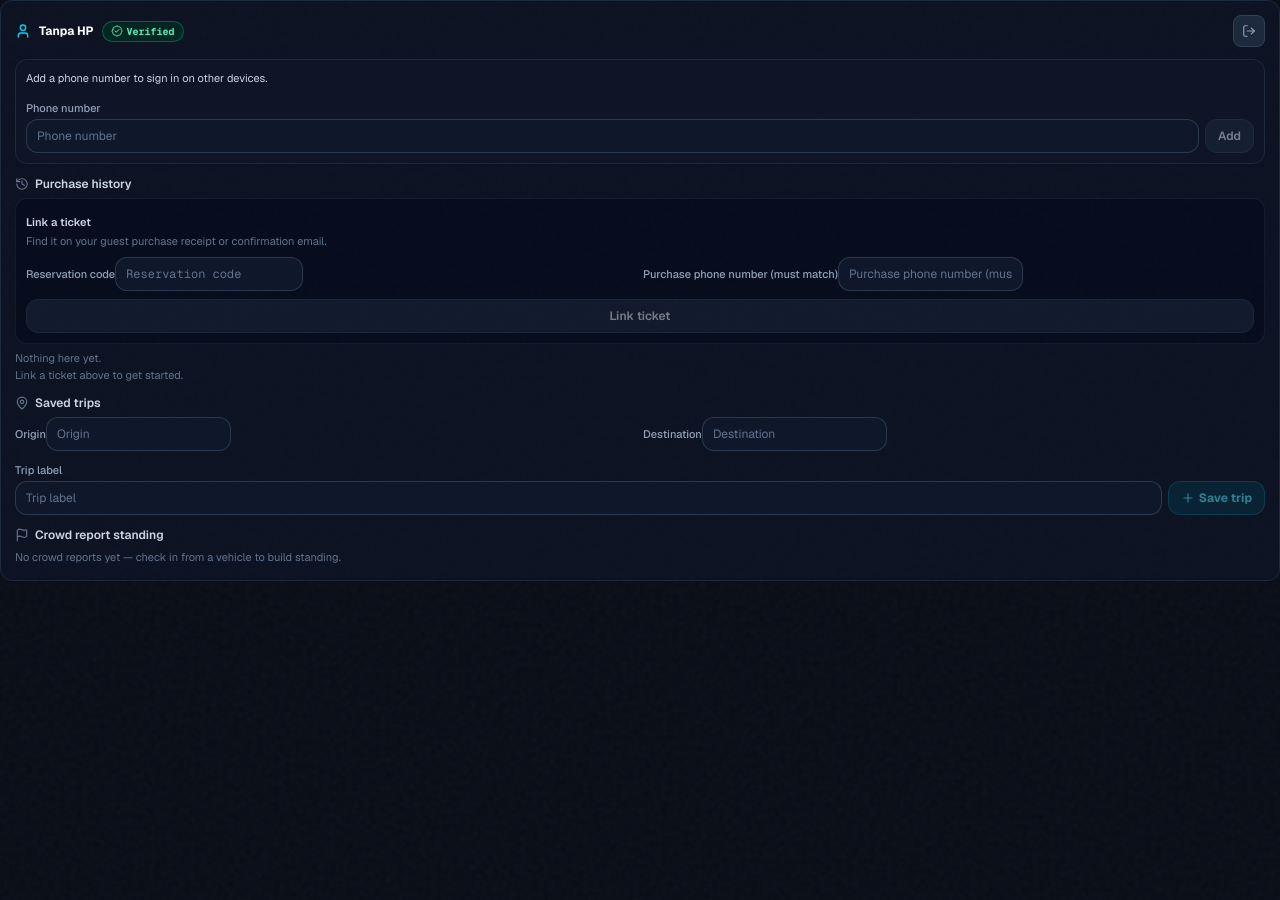
Test: phoneless accounts › offers phone attach on a phoneless account and persists it
Expected: the text "Purchase history" is shown, top-left (15, 176), bottom-right (132, 192)
Type "+6281999000001" into the field labelled "Phone number" at (612, 136), box top-left (26, 118), bottom-right (1199, 152)
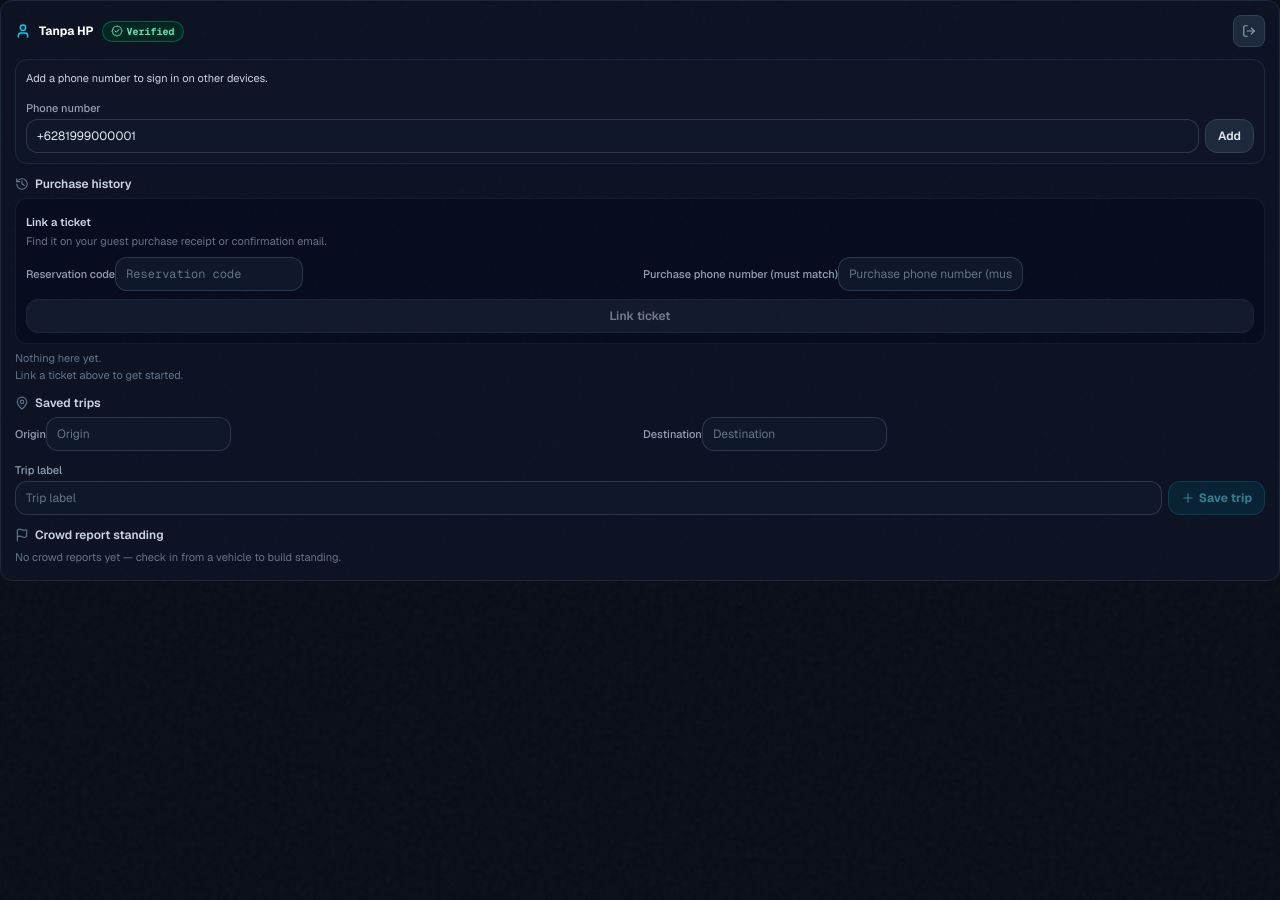
Click the button "Add" at (1230, 136), box top-left (1205, 118), bottom-right (1254, 152)
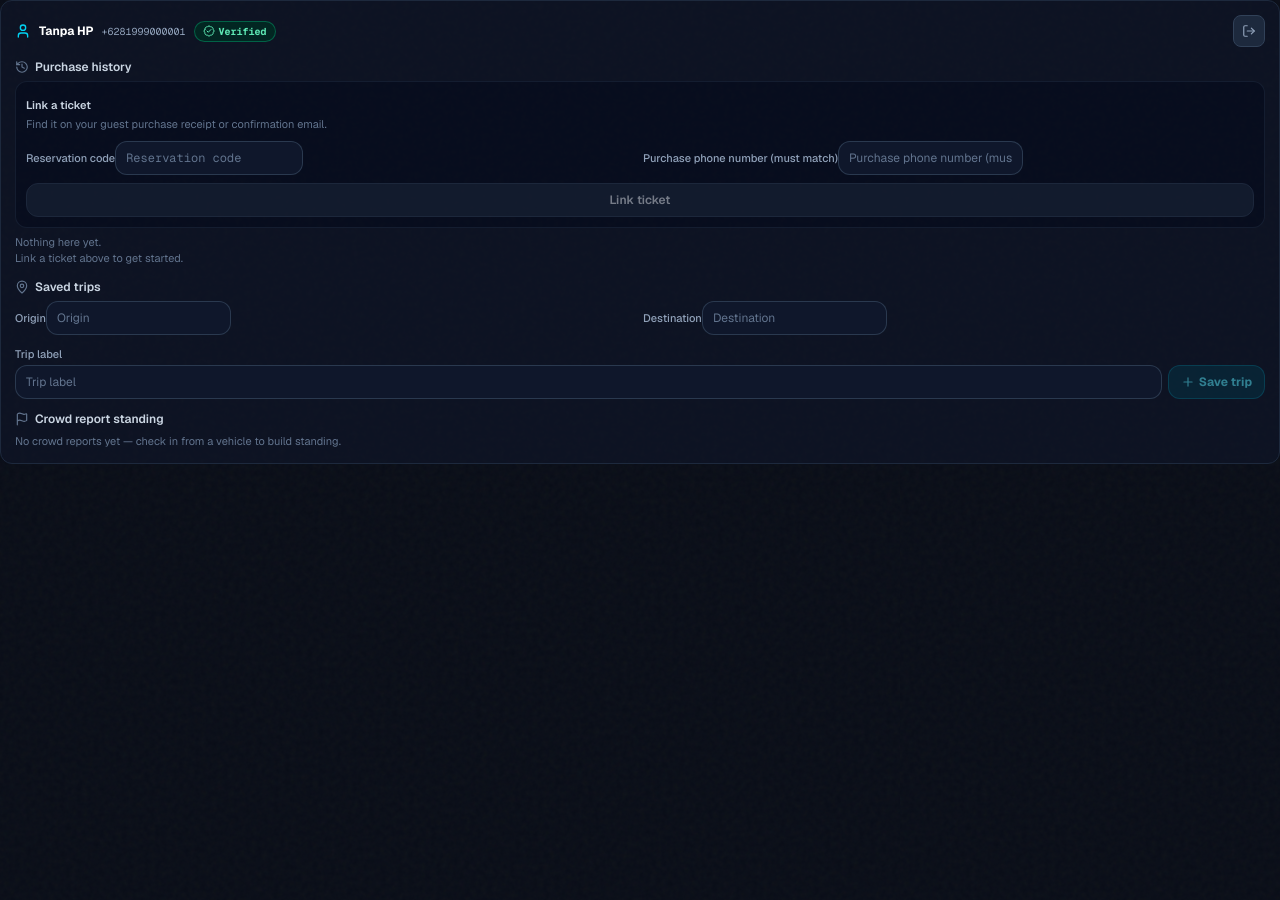
Result: the text "+6281999000001" is shown at top-left (102, 24), bottom-right (186, 38)
